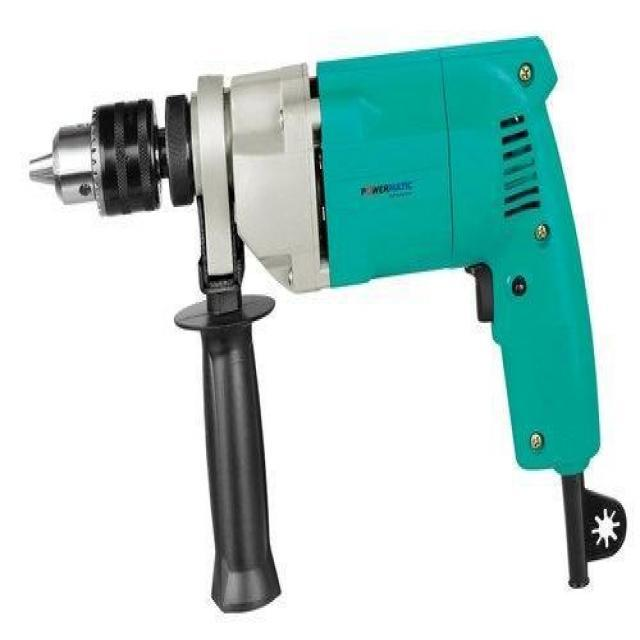drill: (29, 33, 626, 616)
